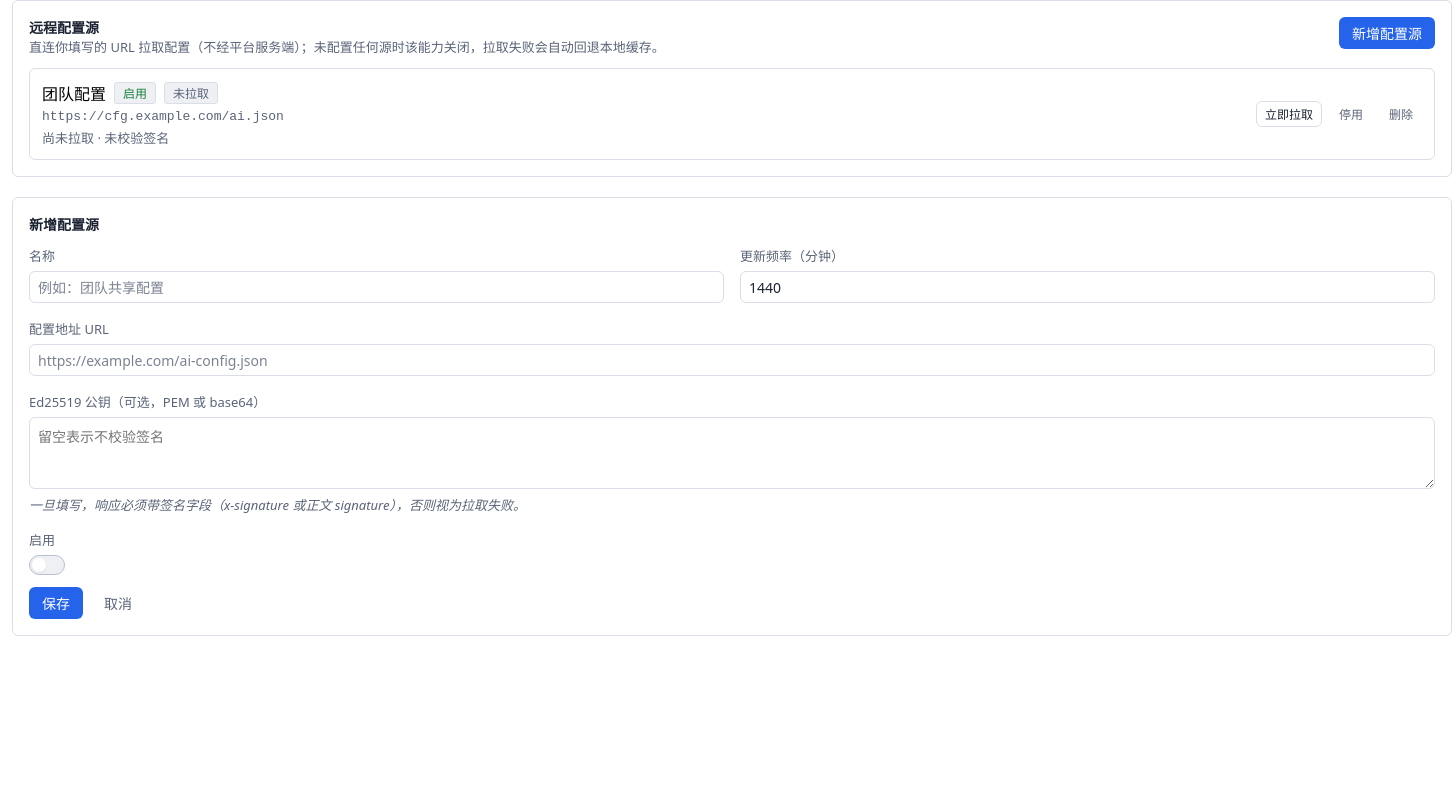
Scenario: 远程配置页 › 拉取不可达时展示失败原因且不阻塞页面
The width and height of the screenshot is (1452, 810).
What coordinates should you click on to do the following:
click the button "立即拉取"
I would click on:
 (1289, 114)
Its box is [1256, 101, 1322, 127].
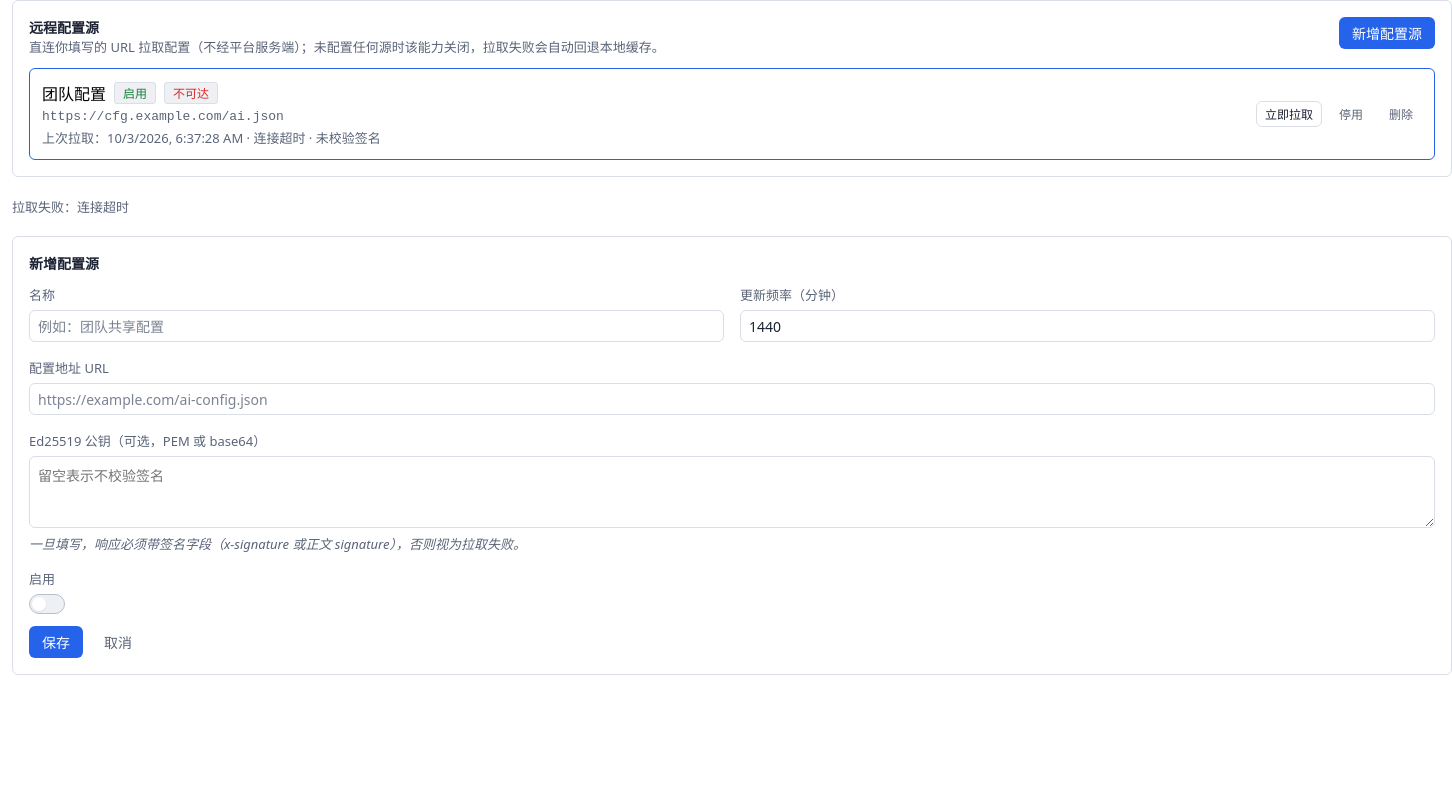
Now the text "拉取失败：连接超时" is shown, box [12, 198, 129, 216]
Now the text "不可达" is shown, box [173, 84, 209, 102]
